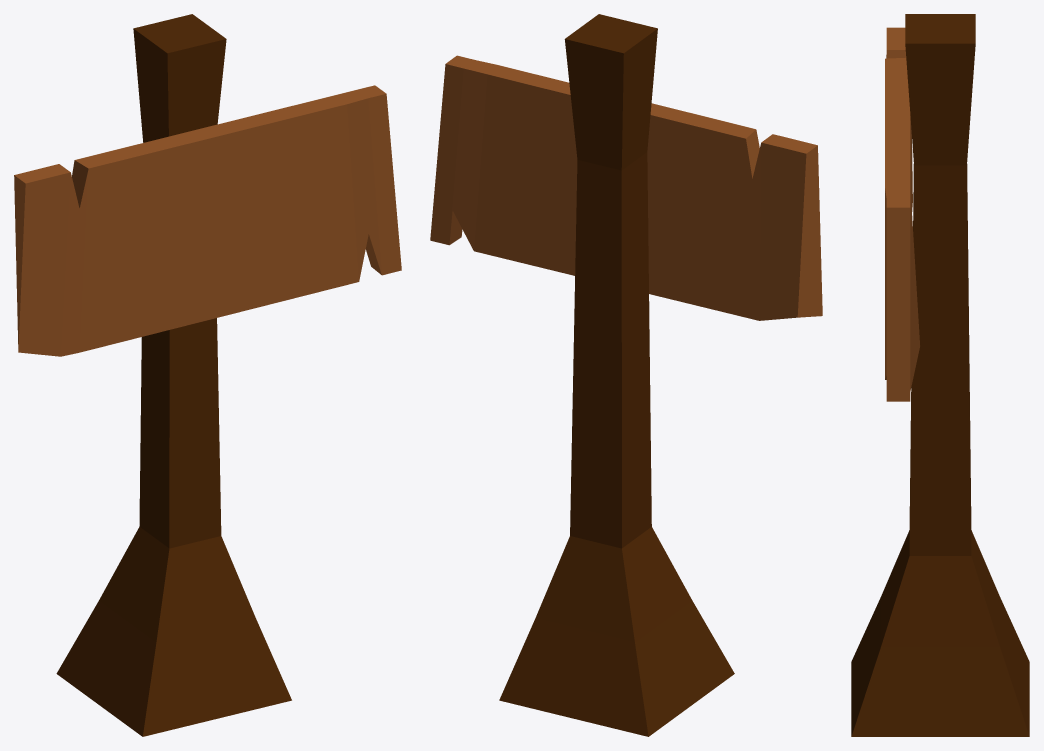
Rendered from cartel.fbx.
The picture shows the model from 3 angles, left to right: view 1: azimuth 30°, elevation 25°; view 2: azimuth 150°, elevation 25°; view 3: azimuth 270°, elevation 25°; orthographic projection. The views are drawn at different scales.
Visible parts, largest first — view 1: Cartel, CartelPalo; view 2: CartelPalo, Cartel; view 3: CartelPalo, Cartel.
Boxes of the visible parts, bbox=[...] form: Cartel: bbox=[14, 85, 401, 356]; CartelPalo: bbox=[56, 14, 291, 736]; CartelPalo: bbox=[499, 14, 734, 736]; Cartel: bbox=[430, 55, 822, 320]; CartelPalo: bbox=[851, 14, 1029, 736]; Cartel: bbox=[885, 27, 919, 401].
Size of the model in its own units: 120 by 196 by 47.05.
